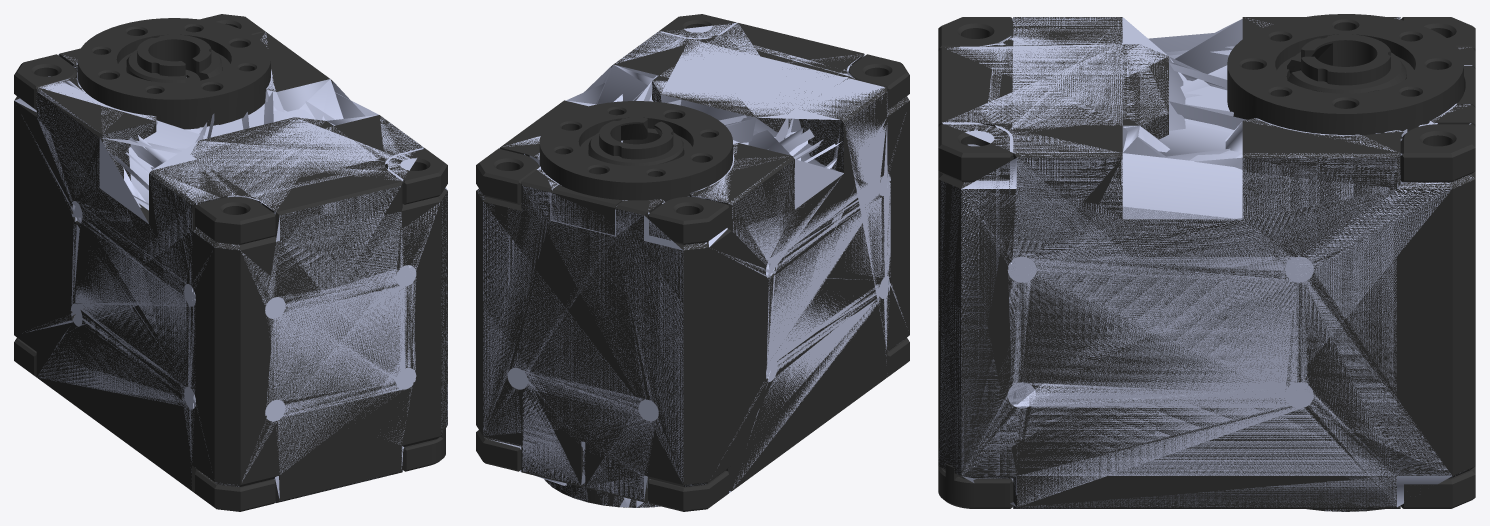
The model's file is arm_link1.dae.
3 renders of one model, left to right at view 1: azimuth 30°, elevation 25°; view 2: azimuth 150°, elevation 25°; view 3: azimuth 270°, elevation 25°, orthographic. The views are drawn at different scales.
Visible parts, largest first — view 1: node0, node1, node2; view 2: node0, node1, node2; view 3: node0, node1, node2.
Boxes of the visible parts, <box> form: node0: <box>14,14,447,511</box>; node1: <box>14,32,447,500</box>; node2: <box>15,36,446,502</box>; node0: <box>476,14,909,511</box>; node1: <box>483,31,906,507</box>; node2: <box>478,22,908,507</box>; node0: <box>938,14,1475,511</box>; node1: <box>939,17,1472,511</box>; node2: <box>942,17,1473,511</box>.
Bounding box in the file's own units: 0.0285 × 0.0409 × 0.0465.
